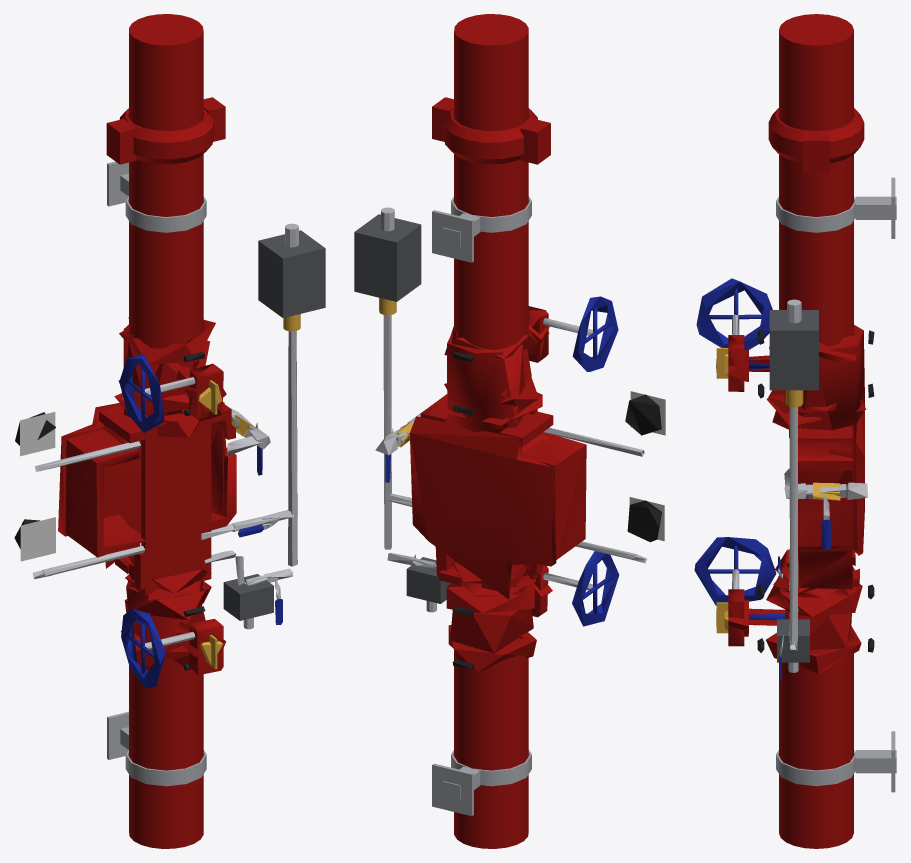
File: AlarmValve.obj
The picture shows the model from 3 angles, left to right: view 1: azimuth 30°, elevation 25°; view 2: azimuth 150°, elevation 25°; view 3: azimuth 270°, elevation 25°; orthographic projection.
Visible parts, largest first — view 1: Object_5; view 2: Object_5; view 3: Object_5.
Part boxes in pixels (x1,y1,x2,y2): Object_5: (14,14,325,848); Object_5: (354,14,665,848); Object_5: (694,14,896,848).
Bounding box in the file's own units: 0.5209 × 1.35 × 0.3078.
